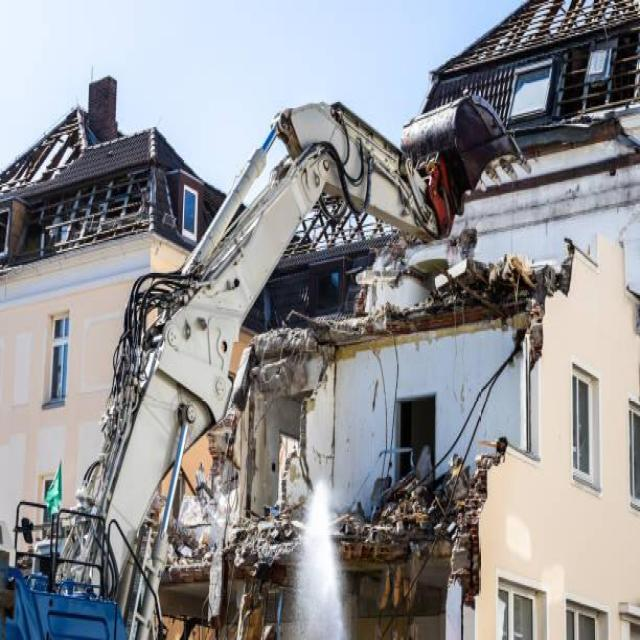horizontal crack: (313, 444, 341, 468)
